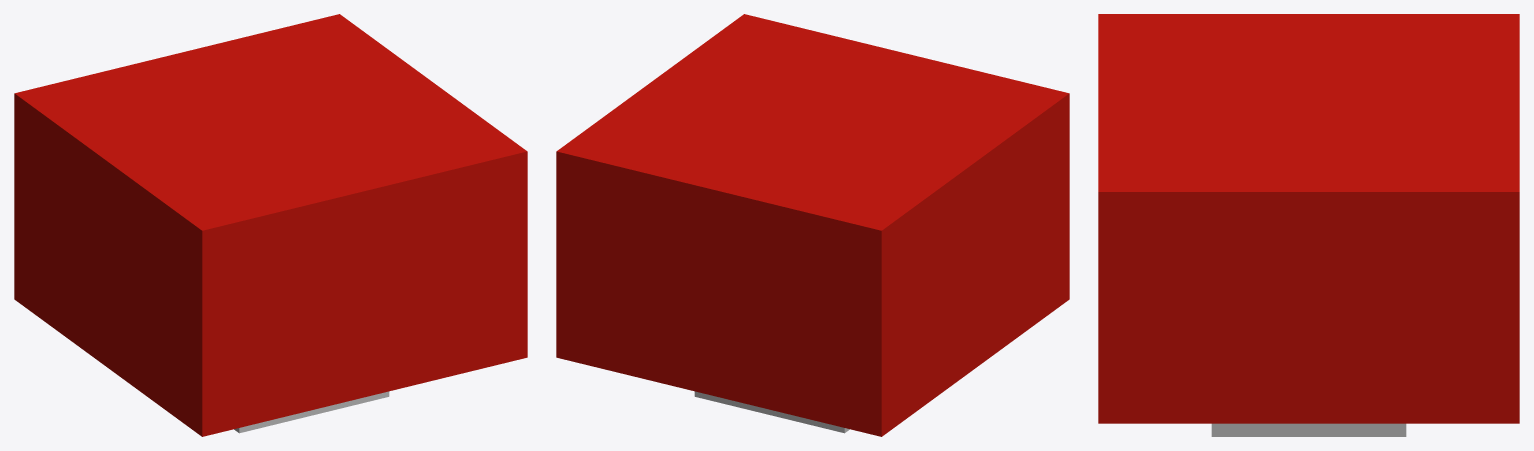
File: Test_Sky.fbx
3 renders of one model, left to right at view 1: azimuth 30°, elevation 25°; view 2: azimuth 150°, elevation 25°; view 3: azimuth 270°, elevation 25°, orthographic. The views are drawn at different scales.
Visible parts, largest first — view 1: SkyTest; view 2: SkyTest; view 3: SkyTest.
Part boxes in pixels (x1,y1,x2,y2): SkyTest: (14, 14, 527, 436); SkyTest: (556, 14, 1069, 436); SkyTest: (1098, 14, 1519, 436).
Size of the model in its own units: 399 by 306 by 399.
